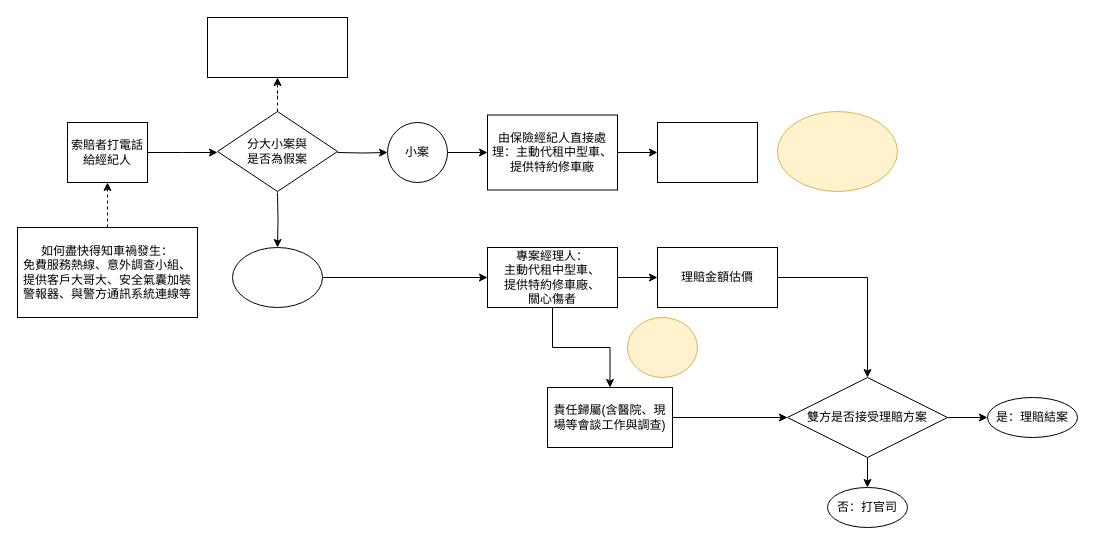
Some shapes in this 1095 by 545 pixel diagram are drawn without their labels. Each missing label, with the box of its shape:
修多少賠多少: (656, 122, 758, 182)
同時進行: (626, 316, 698, 378)
大案: (232, 246, 322, 308)
對修車廠：定期接受報價及修車品質查驗 對保險人：審核索賠次數: (206, 16, 348, 78)
由修車廠處理可能 會當冤大頭，但總體而言較划算: (776, 110, 898, 192)
